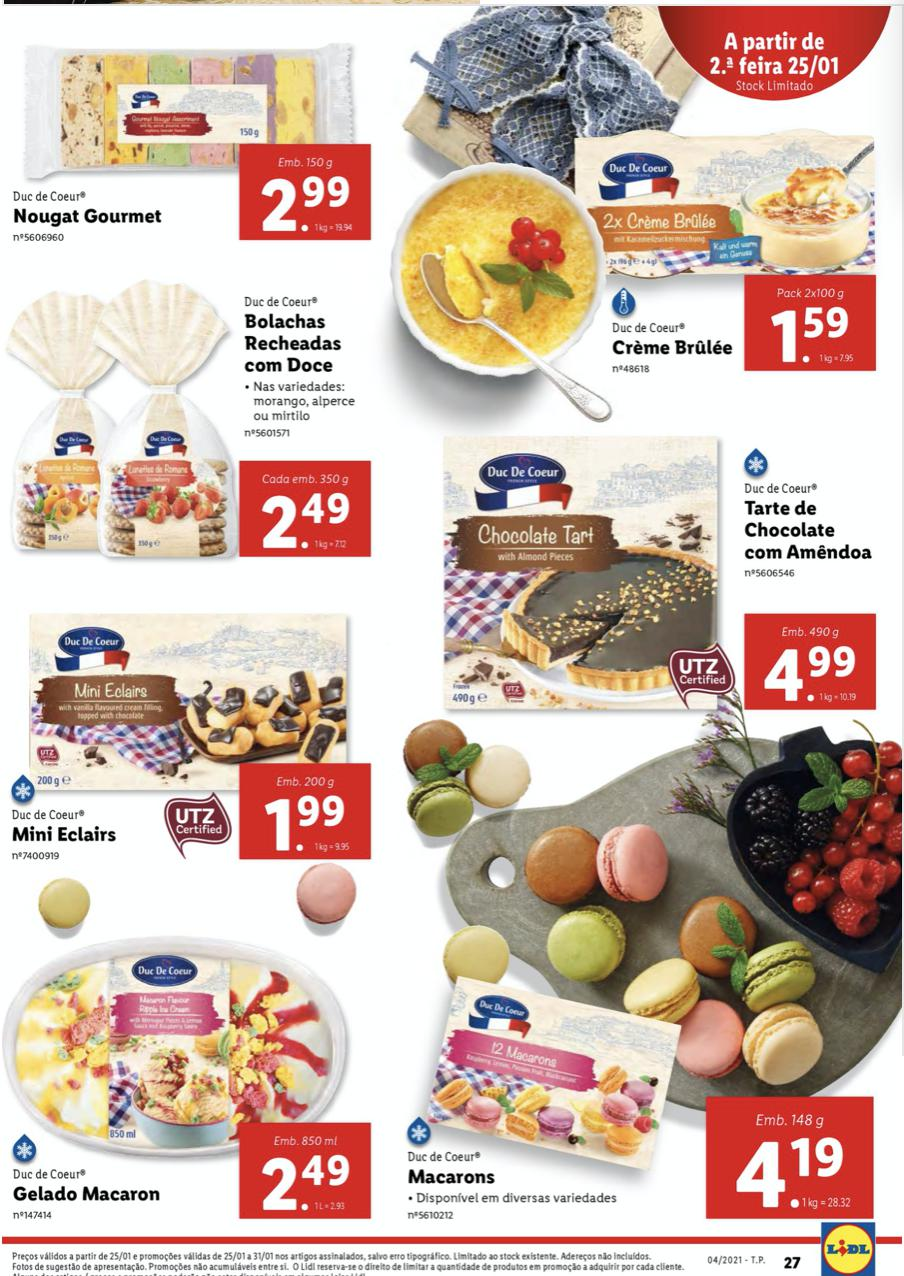name: (736, 489, 883, 569), (239, 308, 348, 380), (607, 329, 736, 369), (12, 202, 170, 229), (12, 1181, 166, 1208), (12, 820, 124, 848), (404, 1166, 501, 1191)
price: (731, 1131, 859, 1220), (763, 620, 869, 710), (253, 158, 366, 242), (766, 285, 872, 374), (255, 480, 359, 561), (255, 1147, 356, 1220), (259, 789, 356, 859)
product: (382, 715, 904, 1228), (388, 110, 891, 418), (415, 424, 891, 720), (7, 869, 382, 1228), (2, 270, 386, 572), (7, 572, 386, 867), (4, 29, 380, 258)
